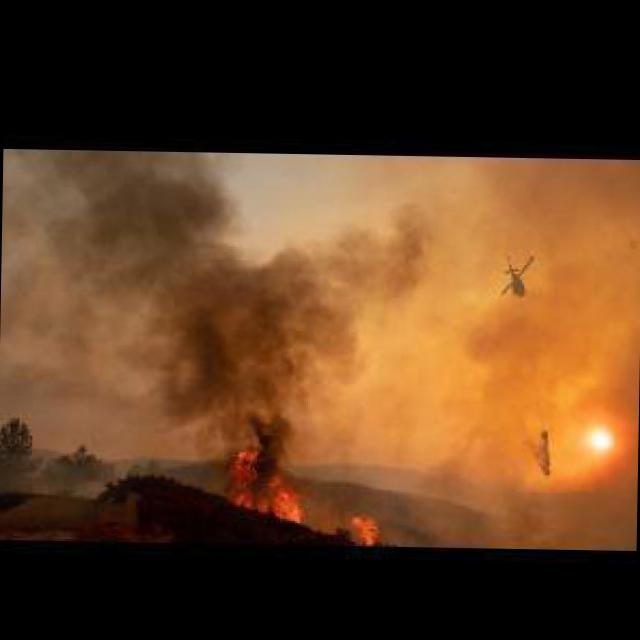fire: (226, 445, 382, 539)
smoke: (108, 182, 434, 418), (228, 356, 298, 486)
